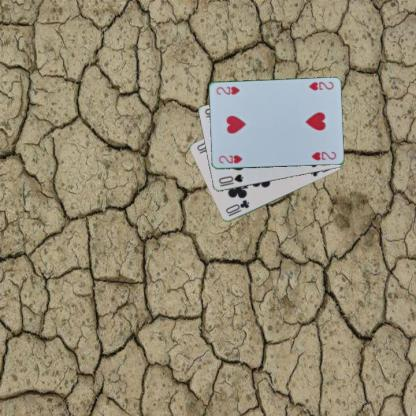10c: (223, 197, 251, 218)
10s: (216, 172, 244, 188)
2h: (306, 79, 334, 92), (216, 152, 243, 164)
